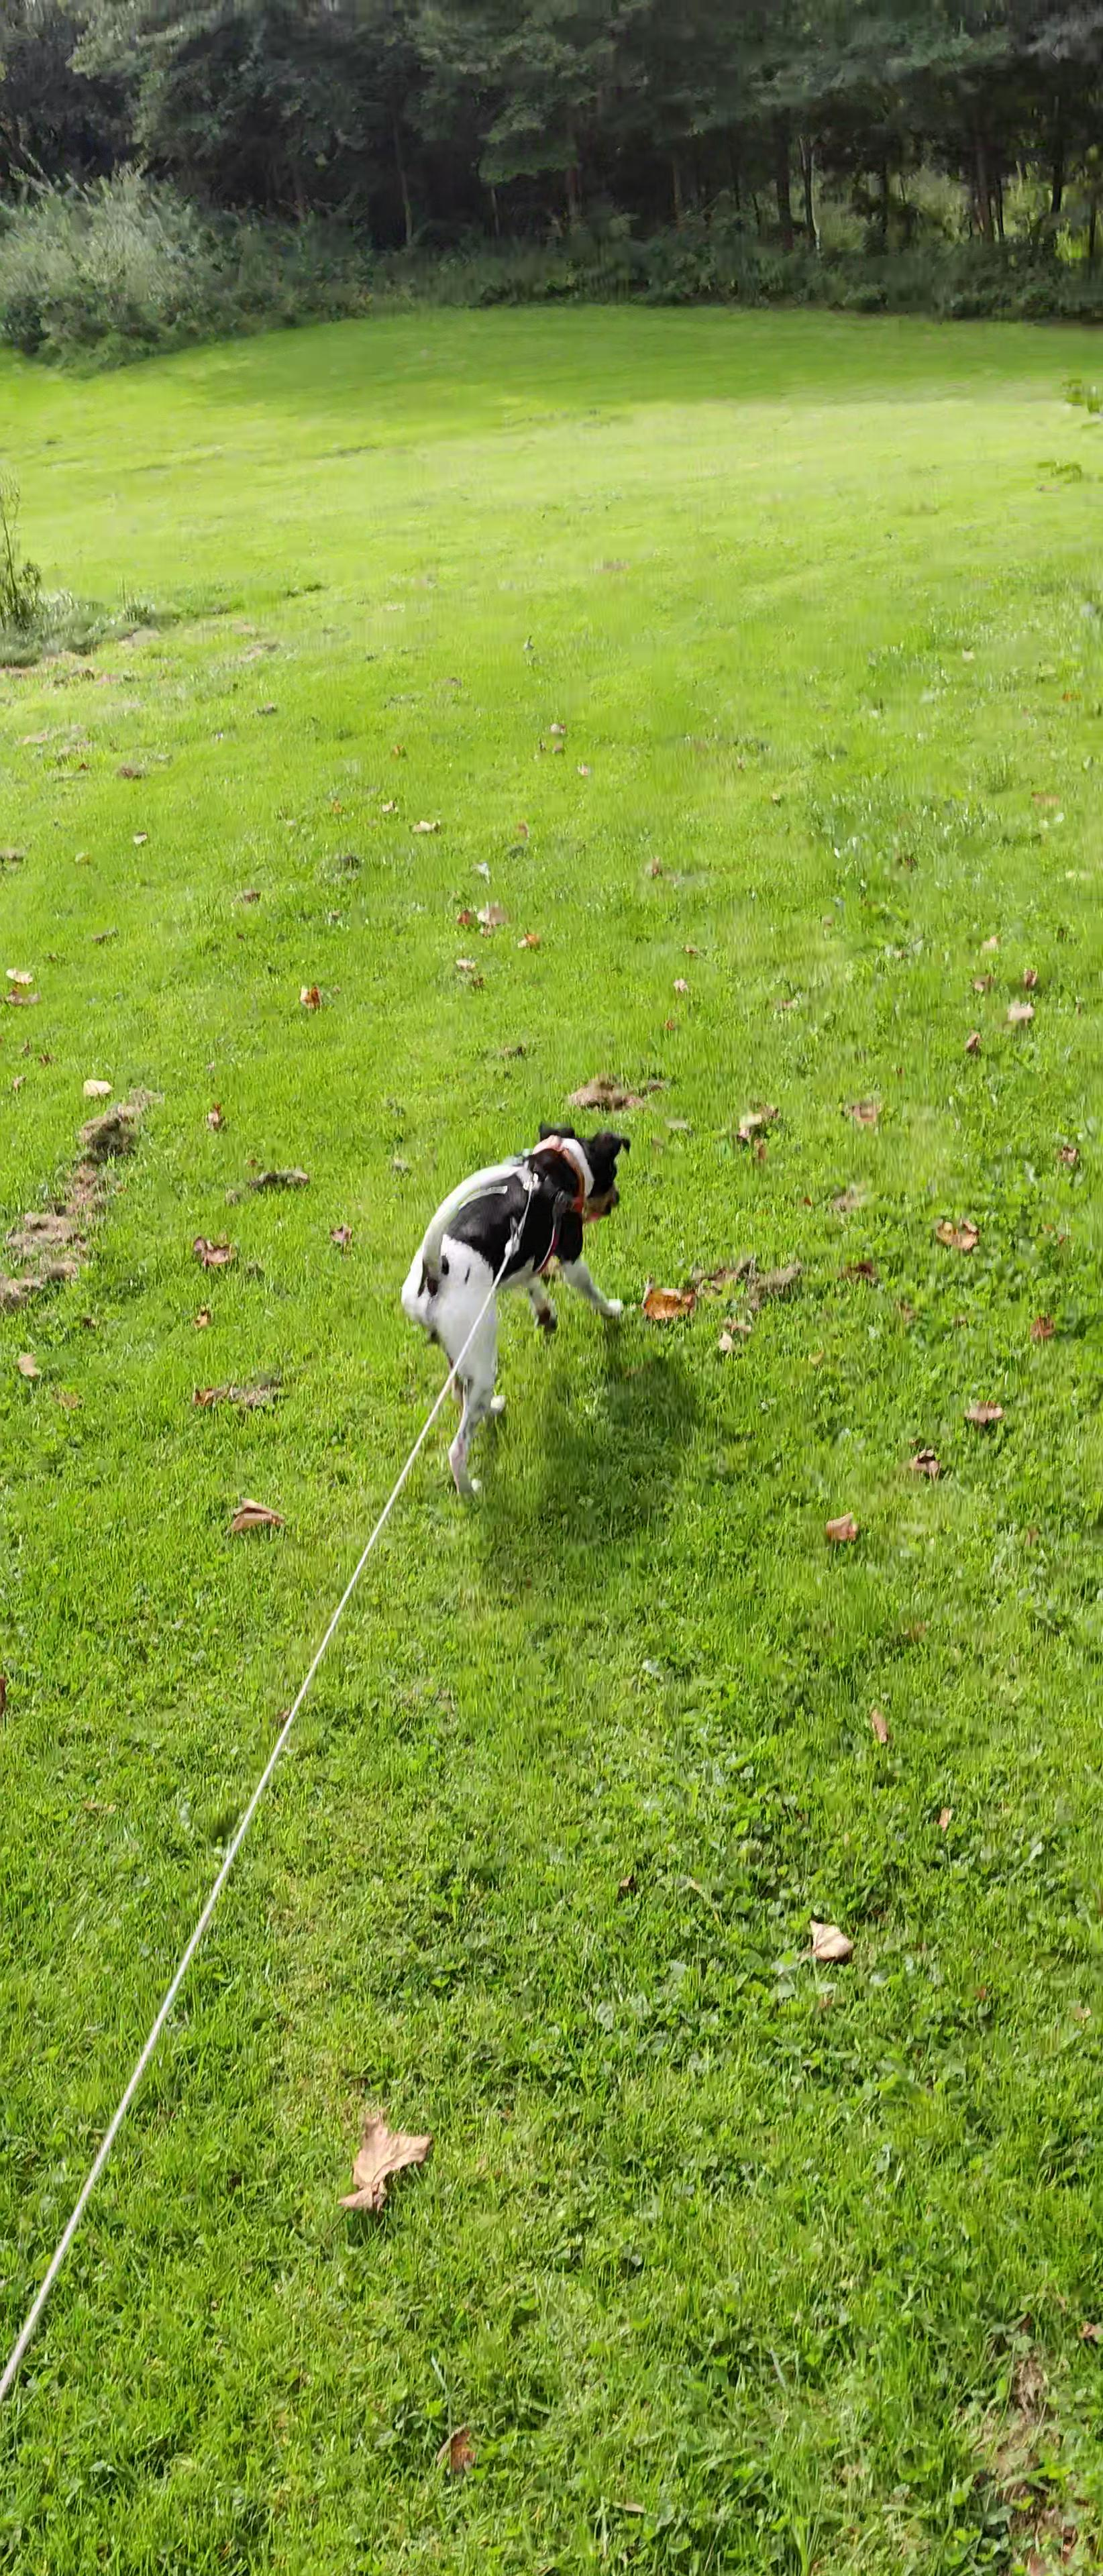Dog: (380, 1101, 653, 1521)
